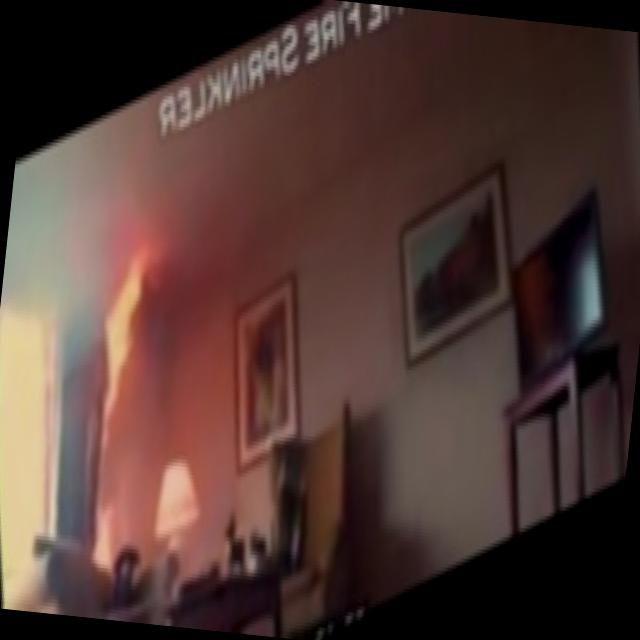fire: (23, 195, 216, 530)
